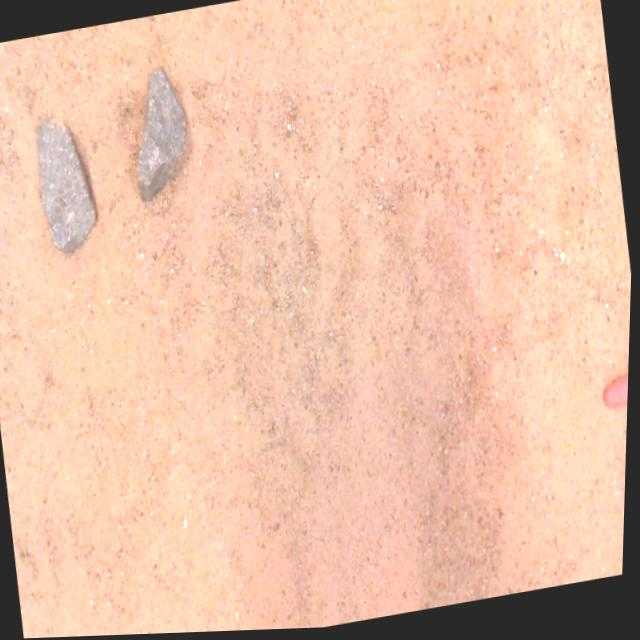rock: (39, 120, 97, 252), (138, 69, 186, 200)
